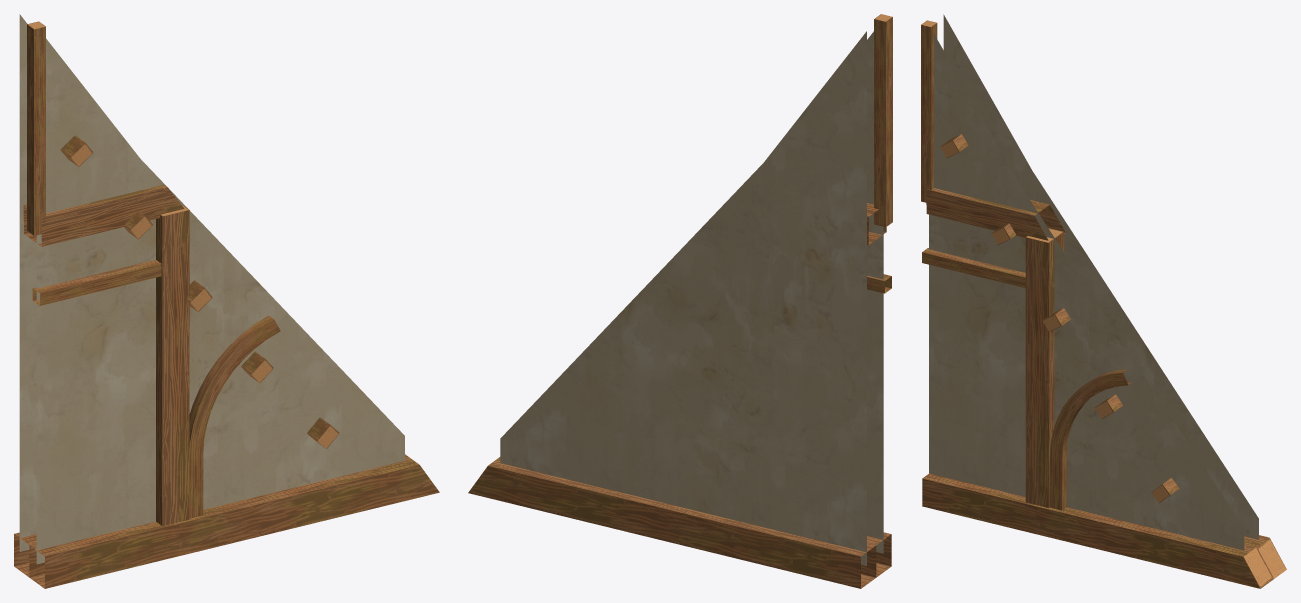
The model's file is roof_front_brick6_half_r.glb.
The picture shows the model from 3 angles, left to right: view 1: azimuth 30°, elevation 25°; view 2: azimuth 150°, elevation 25°; view 3: azimuth 330°, elevation 25°; orthographic projection. The views are drawn at different scales.
Visible parts, largest first — view 1: Roof_Front_Brick6_Half_R; view 2: Roof_Front_Brick6_Half_R; view 3: Roof_Front_Brick6_Half_R.
Part boxes in pixels (<box>): Roof_Front_Brick6_Half_R: <box>14,14,439,588</box>; Roof_Front_Brick6_Half_R: <box>468,14,892,588</box>; Roof_Front_Brick6_Half_R: <box>921,14,1286,588</box>.
Size of the model in its own units: 3.4 by 4.52 by 0.4896.
2 materials, 2 textured.
